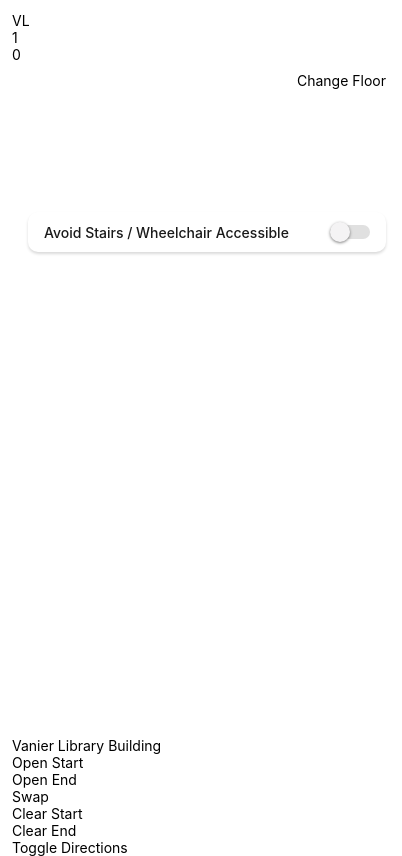
Scenario: IndoorNavigation › switches the displayed indoor map to the route origin building for manual cross-building routes
What coordinates should you click on to do the following:
click the element with test id "open-start"
I would click on:
 (48, 762)
Its box is [12,754,83,771].
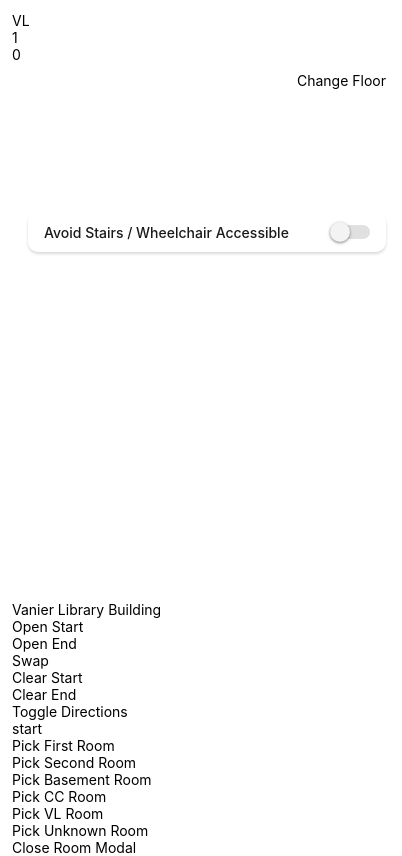
What coordinates should you click on to do the following:
click the element with test id "pick-room-first"
I would click on:
 (63, 746)
Its box is [12,737,115,754].
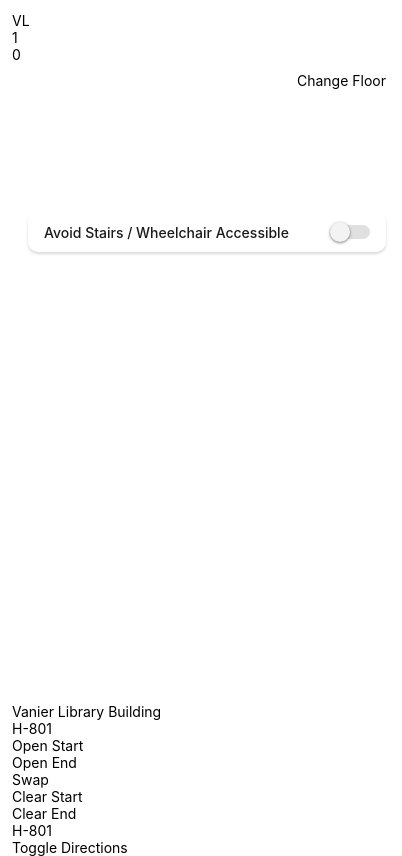
What coordinates should you click on to do the following:
click the element with test id "open-end"
I would click on:
 (44, 762)
Its box is [12,754,77,771].
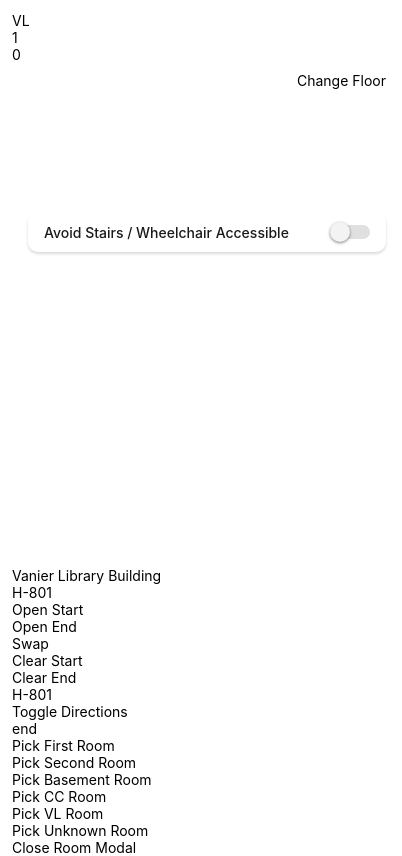
What coordinates should you click on to do the following:
click the element with test id "pick-room-universal"
I would click on:
 (58, 814)
Its box is [12,805,103,822].
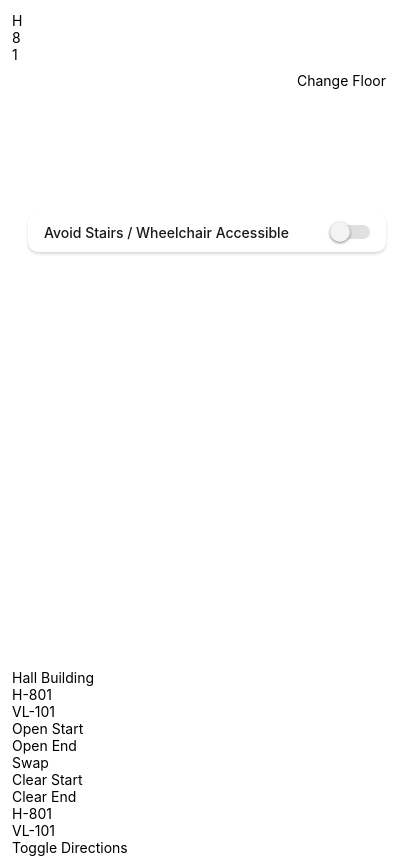
Expected: the text with test id "floor-plan-building" reads "H", [12,12,22,29]
Expected: the text with test id "floor-plan-floor" reads "8", [12,29,21,46]
